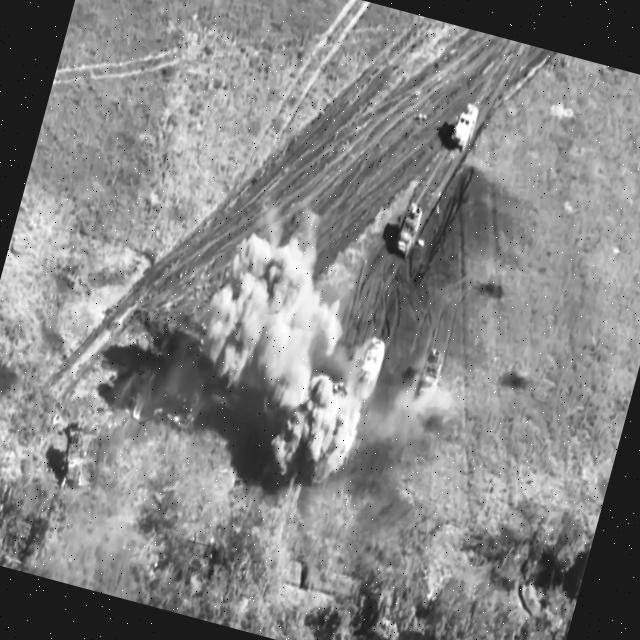Destroyed: (52, 422, 95, 491)
Vehicle: (411, 345, 449, 412), (351, 336, 390, 401), (390, 200, 427, 263), (446, 96, 484, 156)
